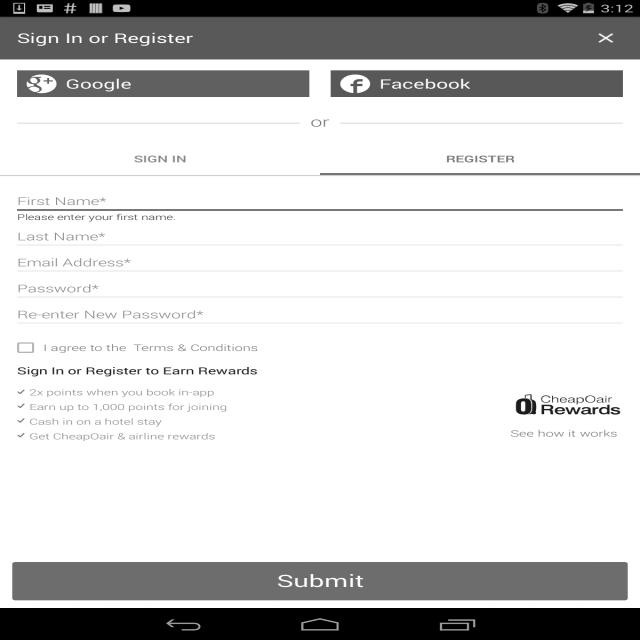Button: (12, 562, 628, 600)
CheckBox: (17, 341, 34, 354)
EditText: (17, 189, 623, 227), (17, 224, 623, 253), (17, 250, 623, 279), (17, 276, 623, 305), (17, 302, 623, 331)
TextView: (0, 142, 320, 175), (320, 142, 640, 175), (17, 364, 623, 377), (17, 17, 193, 59), (56, 75, 310, 92), (370, 75, 623, 92), (513, 387, 623, 422), (24, 427, 215, 442), (24, 398, 227, 412), (24, 386, 214, 398), (505, 423, 623, 442), (24, 412, 162, 427), (580, 22, 632, 54), (133, 341, 258, 354), (43, 341, 127, 354), (340, 74, 370, 93), (17, 122, 300, 124), (340, 122, 623, 124), (27, 74, 56, 93), (310, 113, 330, 130), (17, 412, 25, 423), (17, 427, 25, 438), (17, 398, 25, 408), (17, 386, 25, 394)
